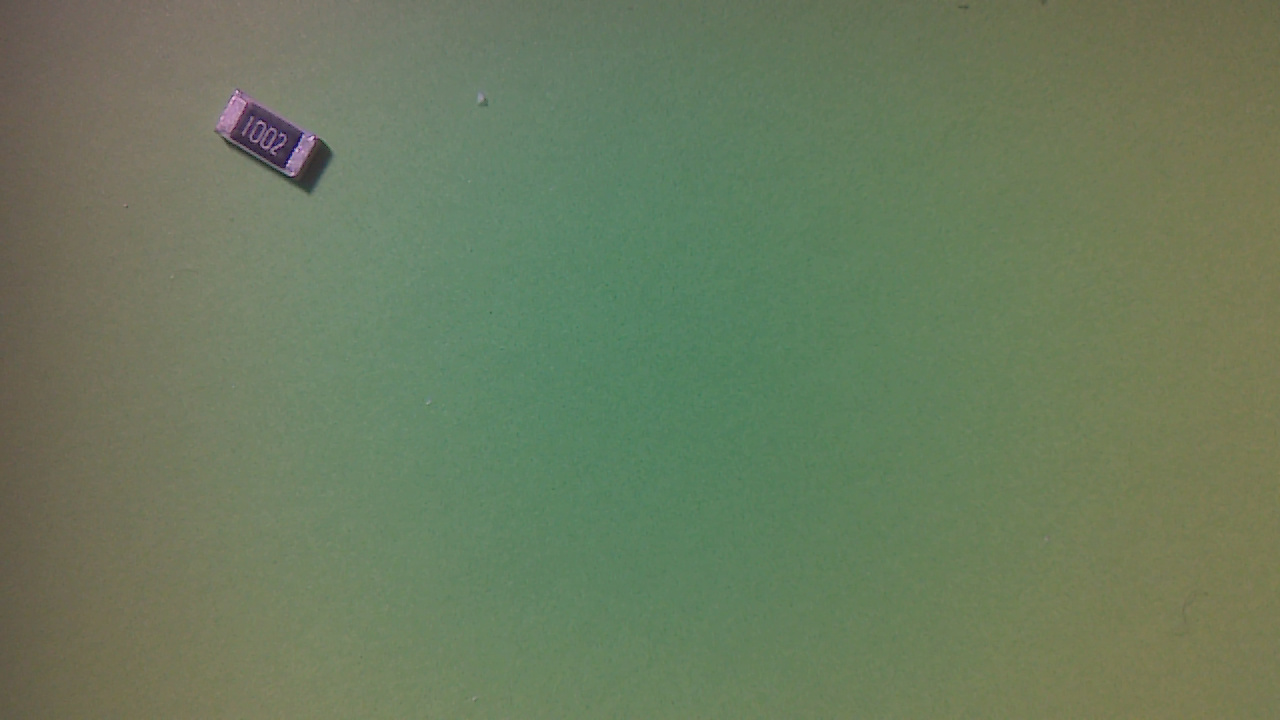Resistor: (214, 89, 328, 191)
